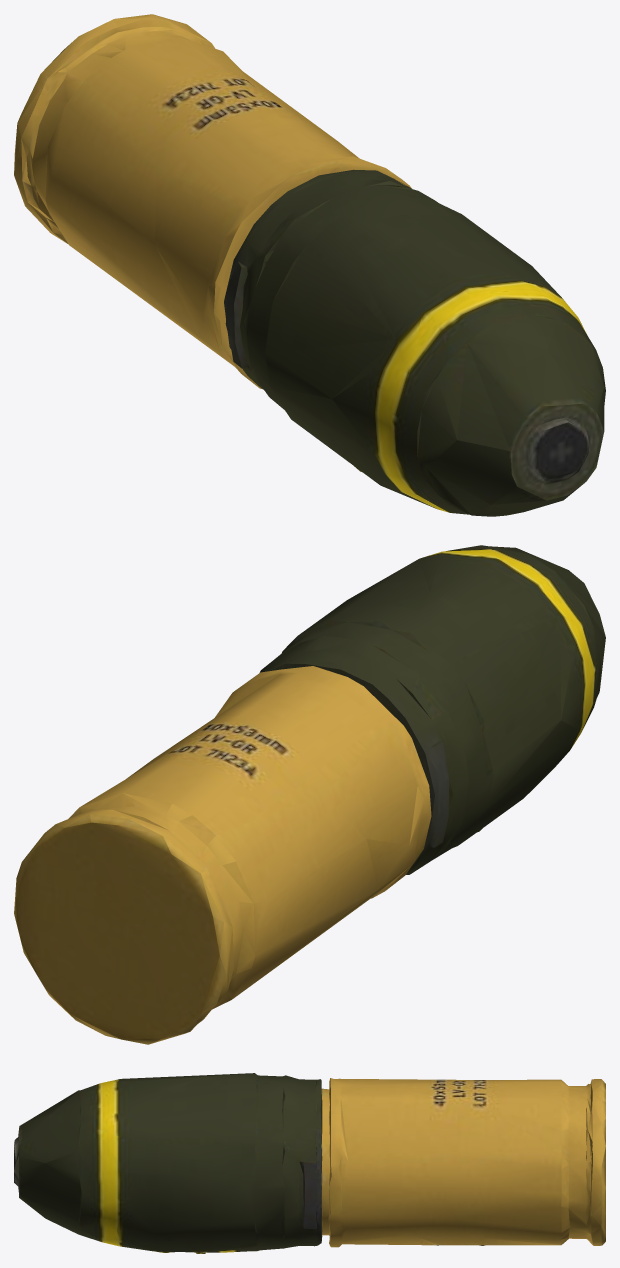
Rendered from round_40mm.glb.
3 views of the same model, one above another, from view 1: azimuth 30°, elevation 25°; view 2: azimuth 150°, elevation 25°; view 3: azimuth 270°, elevation 25° (orthographic). The views are drawn at different scales.
Visible parts, largest first — view 1: model; view 2: model; view 3: model.
Part boxes in pixels (x1=…): model: x1=14, y1=14, x2=605, y2=516; model: x1=14, y1=545, x2=605, y2=1044; model: x1=14, y1=1073, x2=605, y2=1253.
Bounding box in the file's own units: 0.0332 × 0.0336 × 0.11.
1 material, 1 textured.
